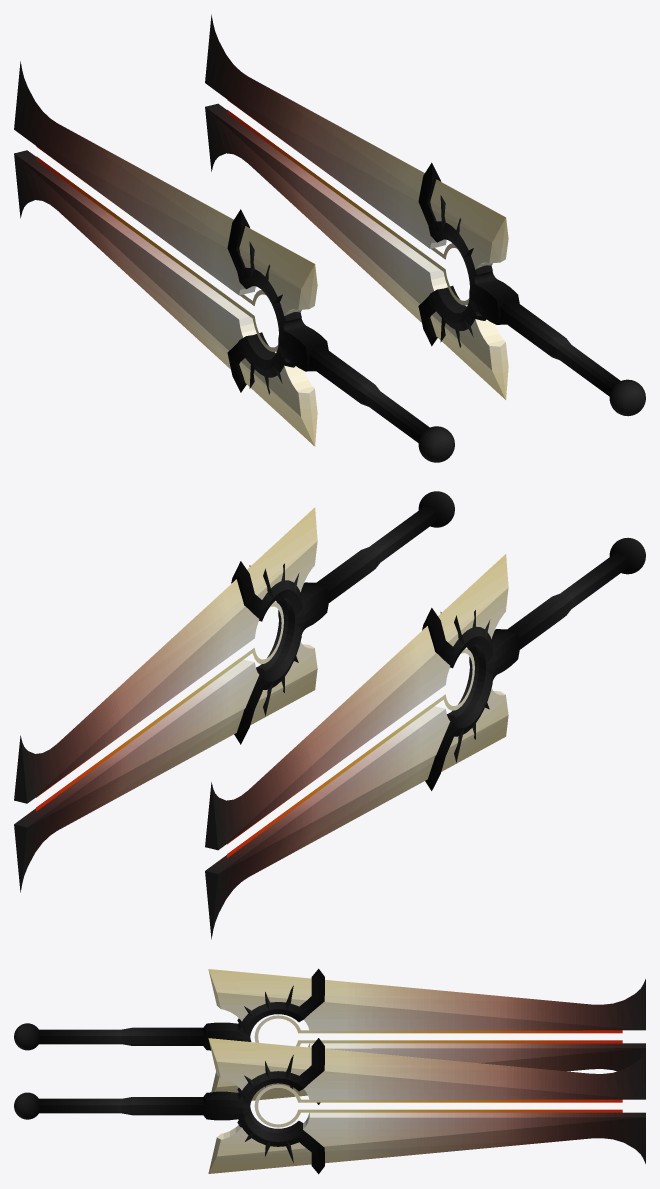
The model's file is solar.glb.
The picture shows the model from 3 angles, top to bottom: view 1: azimuth 30°, elevation 25°; view 2: azimuth 150°, elevation 25°; view 3: azimuth 270°, elevation 25°; orthographic projection. The views are drawn at different scales.
Visible parts, largest first — view 1: main__Tool_R, off__Tool_L; view 2: main__Tool_R, off__Tool_L; view 3: main__Tool_R, off__Tool_L.
Boxes of the visible parts, x1=… form: main__Tool_R: x1=205, y1=14, x2=645, y2=416; off__Tool_L: x1=14, y1=61, x2=454, y2=462; main__Tool_R: x1=14, y1=491, x2=454, y2=892; off__Tool_L: x1=205, y1=537, x2=645, y2=939; main__Tool_R: x1=14, y1=1038, x2=645, y2=1174; off__Tool_L: x1=14, y1=968, x2=645, y2=1104.
Size of the model in its own units: 1.09 by 0.8638 by 3.62.
1 material, 1 textured.
